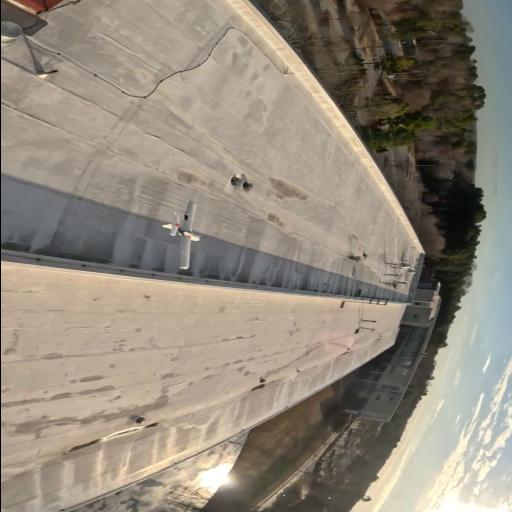uav: (156, 198, 204, 272)
